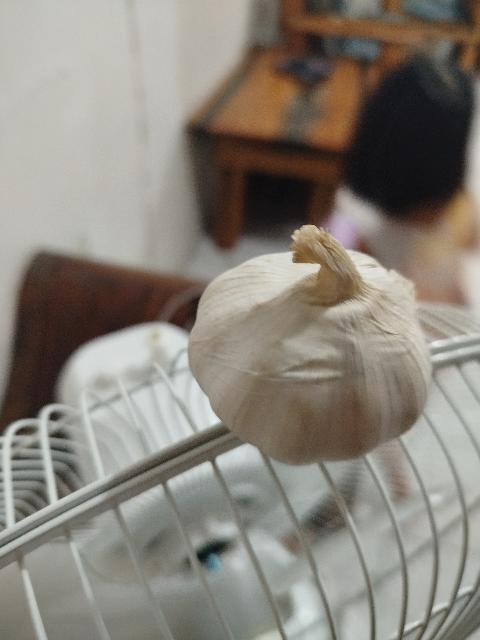garlic: (188, 223, 433, 465)
